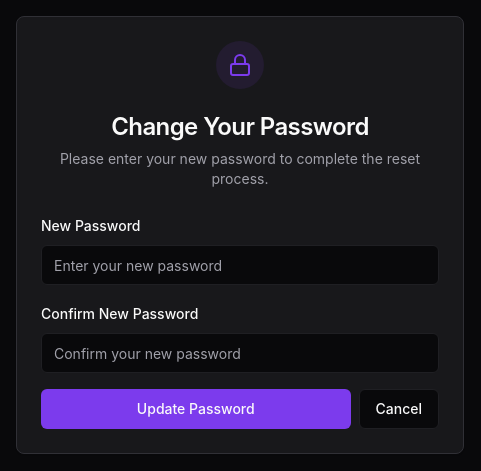
Test: PasswordChangeForm › disables form during loading
Type "newpassword123" into the password field labelled "New Password" at {"x": 240, "y": 265}, box x1=41 y1=245 x2=439 y2=285
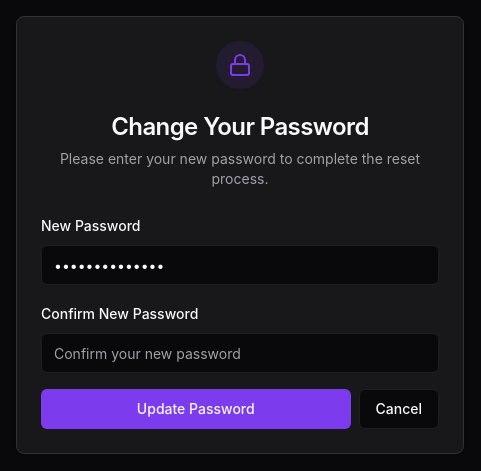
Type "newpassword123" into the password field labelled "Confirm New Password" at {"x": 240, "y": 353}, box x1=41 y1=333 x2=439 y2=373
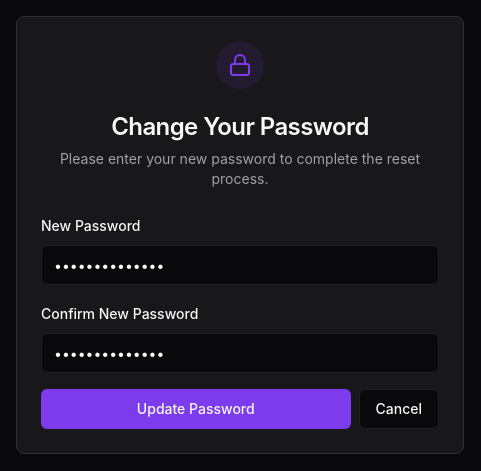
Click the button "Update Password" at {"x": 196, "y": 409}, box x1=41 y1=389 x2=350 y2=429
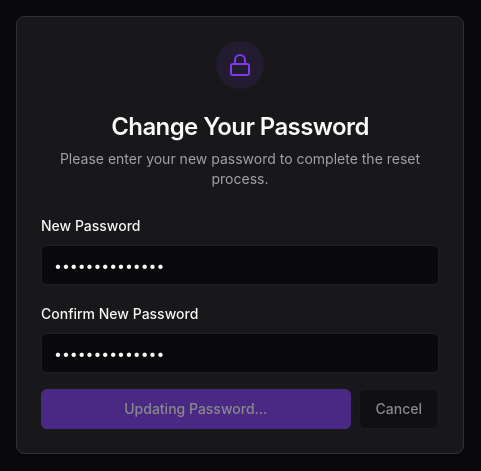
expect the button "Updating Password..." is disabled: met, box x1=41 y1=389 x2=350 y2=429
